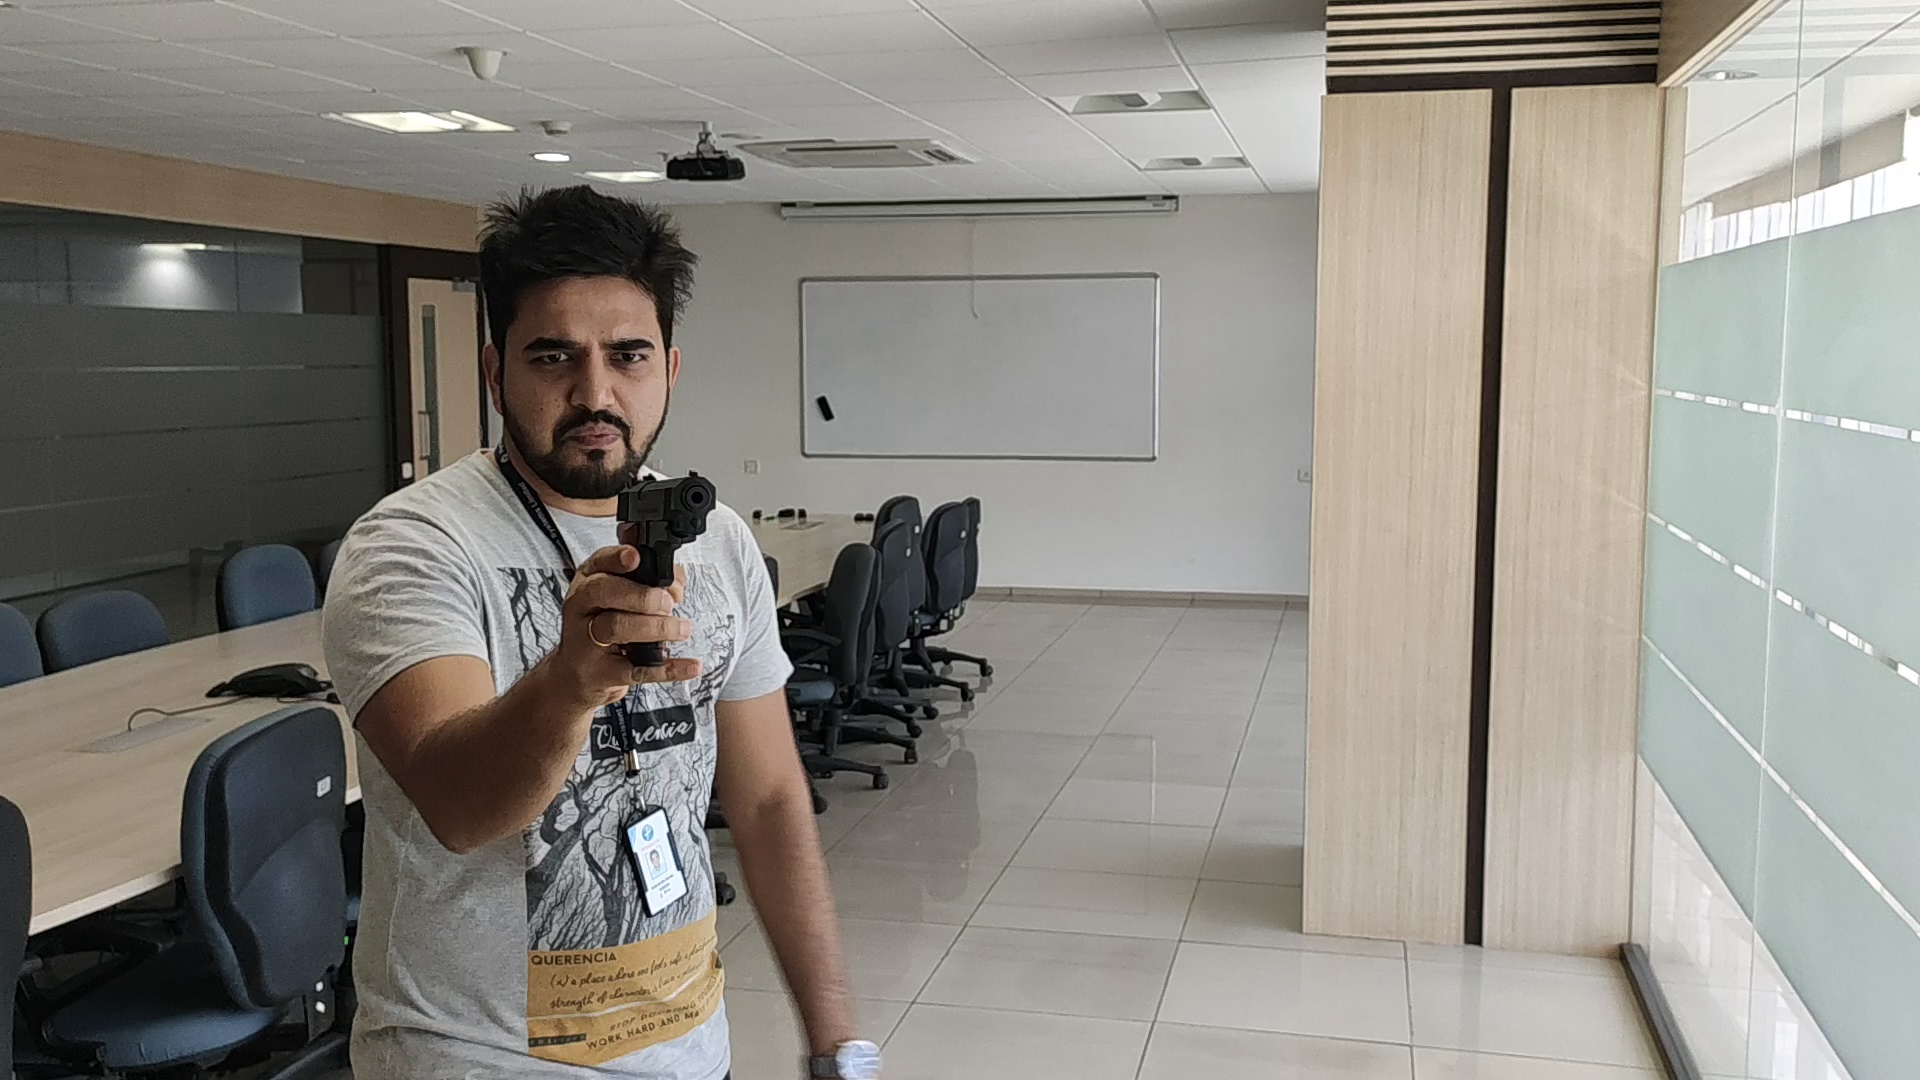gun: (615, 473, 717, 585)
